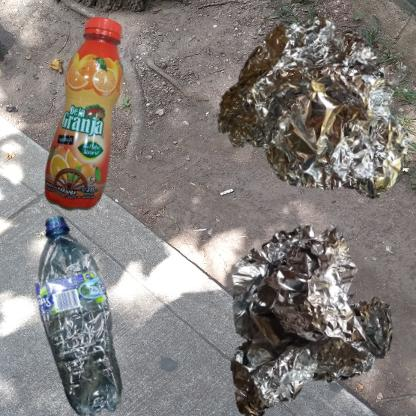aluminio: (213, 213, 407, 416), (213, 10, 412, 204)
botella: (10, 10, 211, 284), (10, 213, 166, 416)
